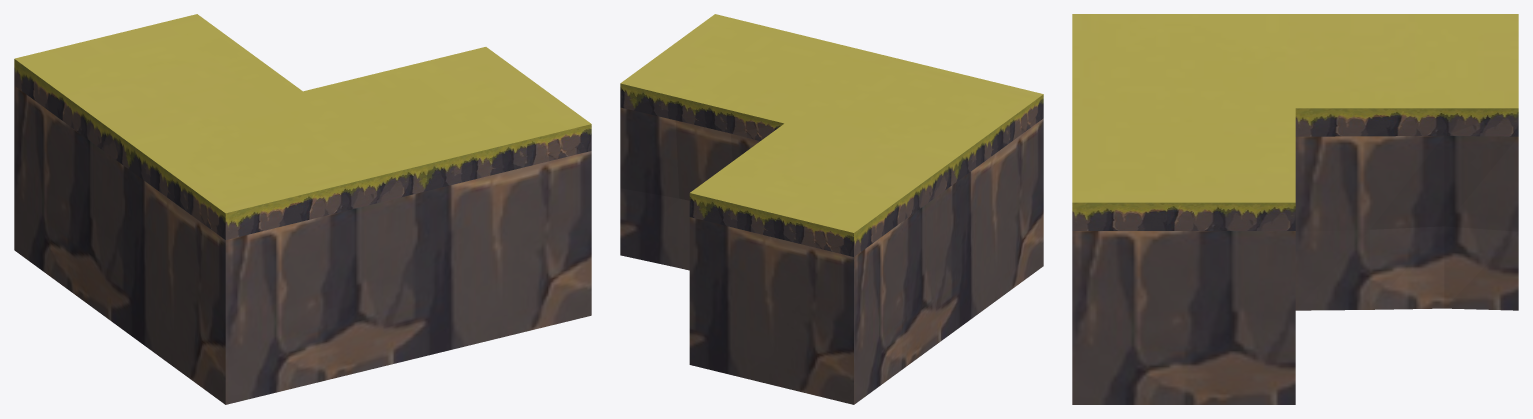
Rendered from SM_RC_Terrain_CliffCorner_Inner_8x8x4.gltf.
3 renders of one model, left to right at view 1: azimuth 30°, elevation 25°; view 2: azimuth 150°, elevation 25°; view 3: azimuth 270°, elevation 25°, orthographic. The views are drawn at different scales.
Parts seen in each view (by area): view 1: SM_RC_Terrain_CliffCorner_Inner_8x8x4; view 2: SM_RC_Terrain_CliffCorner_Inner_8x8x4; view 3: SM_RC_Terrain_CliffCorner_Inner_8x8x4.
Boxes of the visible parts, <box> form: SM_RC_Terrain_CliffCorner_Inner_8x8x4: <box>14,14,591,404</box>; SM_RC_Terrain_CliffCorner_Inner_8x8x4: <box>620,14,1043,404</box>; SM_RC_Terrain_CliffCorner_Inner_8x8x4: <box>1072,14,1518,404</box>.
Size of the model in its own units: 8 by 4 by 8.
Materials: 1 (1 with a texture image).
